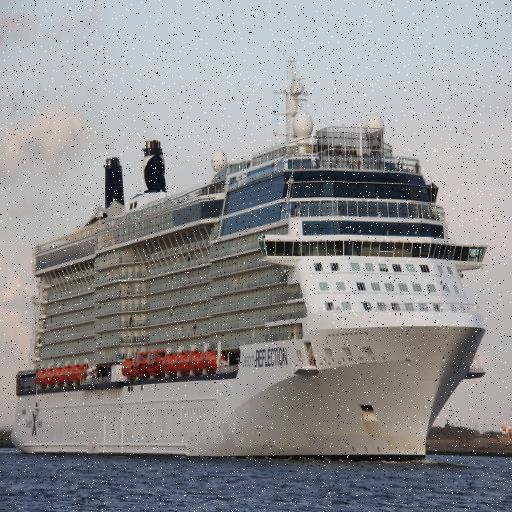cruises: (13, 55, 491, 476)
